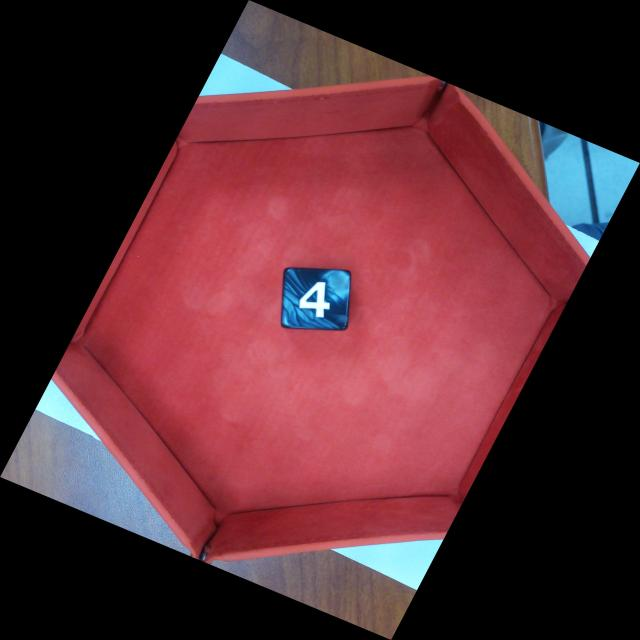dice: (279, 268, 351, 331)
